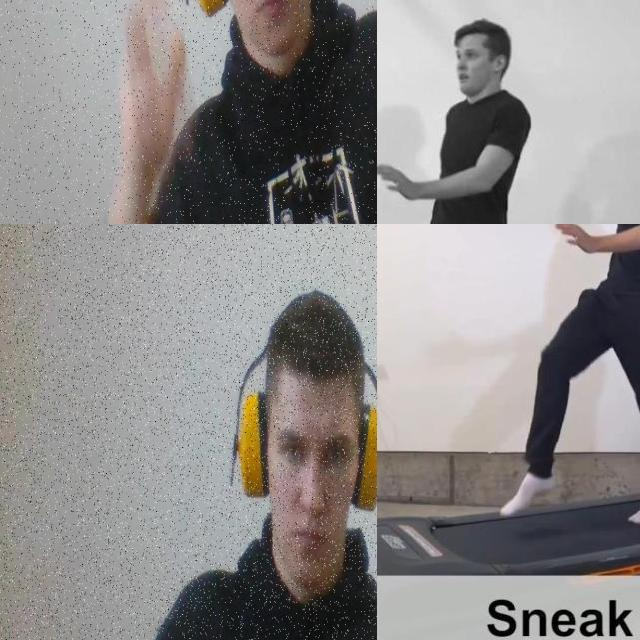Ear-protection: (220, 293, 377, 612), (173, 0, 241, 29)
No_Ear-Protection: (495, 46, 511, 81)
face_nomask: (444, 62, 486, 90)
hand_noglove: (377, 138, 421, 219), (537, 224, 609, 265)
person: (497, 224, 640, 524), (377, 17, 533, 224)
